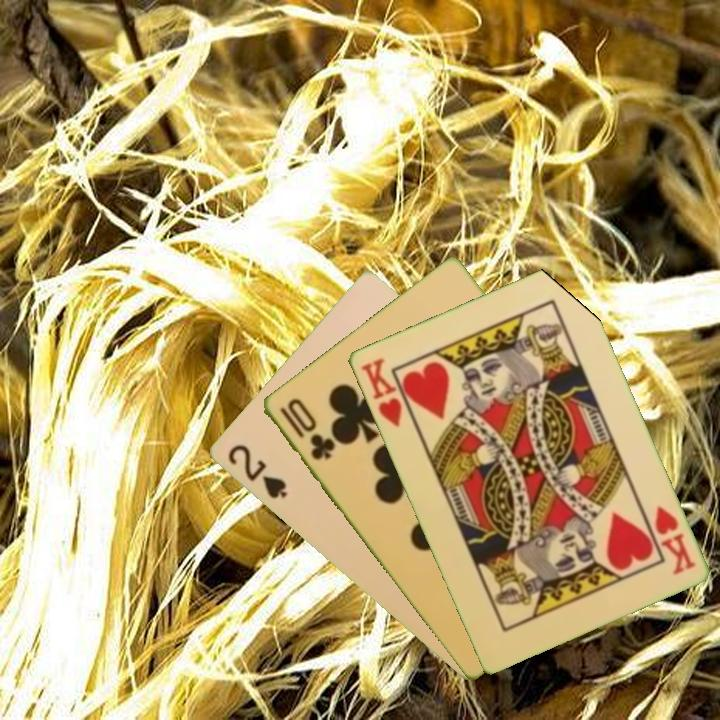10c: (275, 394, 338, 464)
2s: (223, 440, 290, 502)
Kh: (357, 354, 416, 430), (650, 501, 698, 578)
